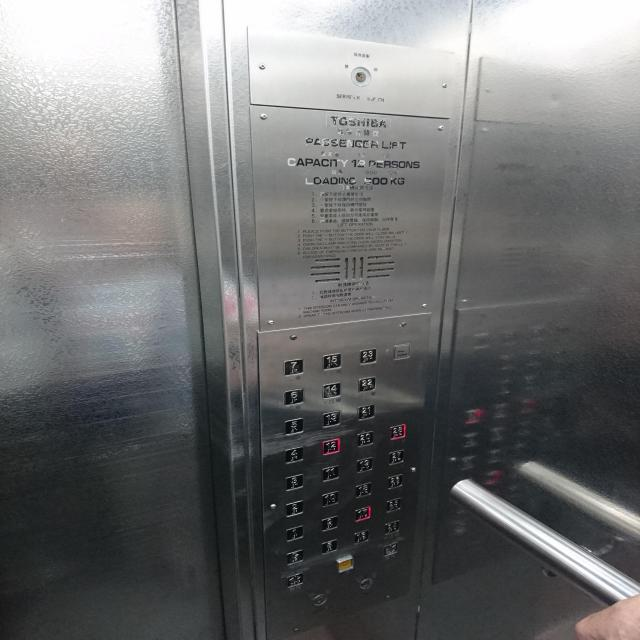1: (285, 524, 305, 543)
10: (321, 490, 339, 508)
11: (321, 464, 340, 482)
12: (322, 438, 340, 456)
13: (321, 410, 341, 428)
14: (322, 382, 342, 400)
15: (321, 352, 342, 371)
16: (352, 529, 369, 546)
17: (354, 506, 371, 522)
18: (355, 482, 372, 499)
19: (356, 456, 373, 474)
2: (284, 499, 304, 517)
20: (356, 430, 374, 448)
21: (357, 403, 376, 421)
22: (358, 375, 376, 393)
23: (359, 347, 377, 366)
24: (384, 519, 401, 536)
25: (386, 496, 402, 514)
26: (386, 474, 403, 491)
27: (388, 449, 404, 466)
28: (389, 422, 406, 440)
3: (284, 473, 304, 492)
4: (284, 446, 304, 464)
5: (284, 417, 304, 436)
6: (283, 388, 304, 407)
7: (283, 357, 304, 377)
8: (320, 538, 338, 556)
9: (320, 514, 339, 532)
G: (286, 549, 304, 566)
alarm: (336, 554, 354, 574)
close: (382, 541, 398, 557)
open: (286, 572, 304, 588)
text_overload: (393, 342, 411, 361)
